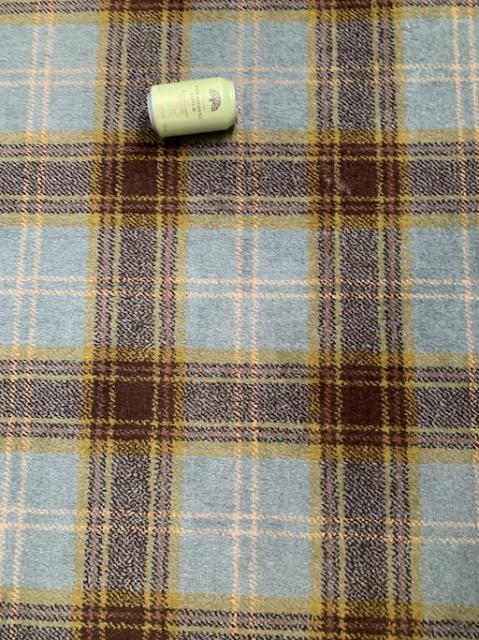metal: (147, 76, 235, 136)
